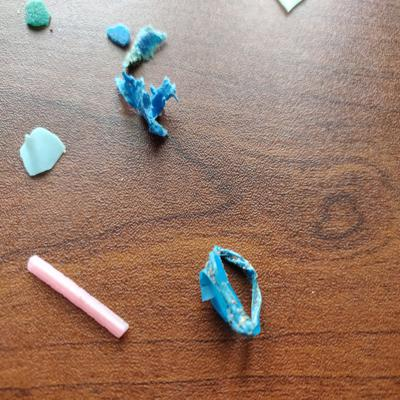plastic: (21, 252, 135, 344), (196, 243, 268, 341), (108, 73, 181, 143), (120, 13, 168, 74), (19, 124, 68, 180), (23, 1, 54, 34), (104, 21, 131, 50)
